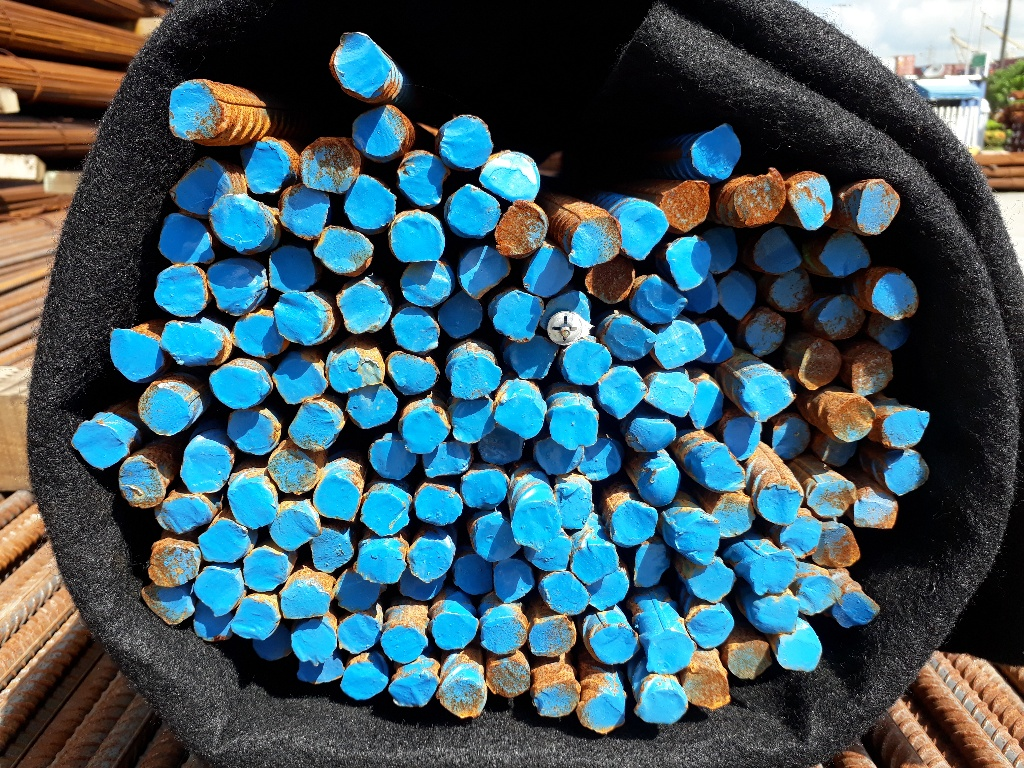dipstick: (332, 31, 392, 98), (210, 193, 274, 252), (170, 157, 234, 216), (300, 138, 361, 195), (208, 259, 271, 314), (482, 149, 542, 204), (160, 321, 230, 368), (237, 135, 290, 197), (689, 122, 745, 180), (326, 337, 387, 390), (168, 80, 221, 140), (133, 383, 193, 436), (568, 212, 623, 269), (336, 280, 391, 337), (108, 326, 162, 384), (447, 181, 502, 237), (615, 206, 669, 263), (152, 263, 210, 316), (351, 105, 410, 157), (277, 183, 329, 242), (182, 432, 233, 492), (268, 439, 323, 494), (275, 290, 330, 345), (437, 113, 491, 169), (210, 362, 273, 410), (390, 211, 448, 263), (314, 225, 375, 274), (343, 175, 397, 230), (738, 168, 788, 227), (664, 234, 714, 293), (288, 399, 344, 451), (271, 348, 327, 400), (159, 212, 215, 264), (69, 422, 129, 470), (522, 243, 577, 295), (603, 310, 660, 360), (739, 372, 795, 422), (229, 471, 276, 530), (498, 379, 544, 439), (495, 201, 547, 254), (657, 180, 710, 232), (632, 276, 688, 325), (117, 453, 166, 509), (229, 310, 287, 357), (312, 470, 364, 522), (400, 151, 446, 209), (823, 394, 875, 445), (354, 533, 406, 584), (460, 245, 511, 297), (191, 565, 241, 618), (267, 242, 317, 295), (872, 269, 921, 323), (856, 179, 901, 237), (154, 493, 217, 534), (225, 407, 281, 453), (753, 225, 804, 275), (634, 675, 685, 725), (494, 291, 545, 341), (271, 498, 319, 551), (819, 231, 871, 279), (346, 383, 398, 431), (140, 583, 198, 626), (148, 541, 202, 587), (386, 350, 440, 395), (197, 518, 253, 561), (512, 503, 564, 549), (391, 307, 443, 353), (654, 320, 707, 365), (818, 294, 867, 342), (698, 443, 747, 491), (584, 260, 640, 302), (748, 550, 798, 597), (438, 672, 488, 719), (849, 345, 895, 396), (472, 511, 518, 562), (405, 403, 451, 454), (449, 354, 502, 398), (598, 368, 644, 418), (539, 569, 589, 615), (399, 261, 452, 304), (683, 664, 731, 711), (551, 403, 599, 450), (545, 291, 592, 339), (797, 340, 843, 389), (229, 597, 279, 642), (607, 502, 658, 546), (793, 174, 833, 230), (756, 480, 803, 527), (646, 628, 695, 673), (367, 434, 416, 479), (564, 340, 613, 385), (675, 517, 719, 567), (289, 618, 339, 662), (534, 431, 584, 475), (646, 371, 692, 418), (817, 522, 862, 570), (335, 568, 384, 612), (717, 271, 760, 321), (588, 623, 640, 664), (510, 333, 556, 379), (528, 614, 576, 658), (687, 560, 735, 604), (806, 479, 857, 520), (525, 531, 576, 572), (883, 449, 928, 495), (710, 493, 756, 538), (310, 524, 356, 569), (336, 610, 383, 654), (638, 458, 680, 507), (768, 272, 818, 313), (458, 467, 509, 507), (855, 486, 900, 531), (571, 541, 618, 584), (416, 484, 464, 526), (424, 438, 474, 478), (577, 437, 622, 481), (439, 293, 483, 338), (342, 657, 389, 699), (775, 634, 824, 674), (582, 691, 627, 734), (244, 548, 289, 591), (381, 622, 427, 664), (474, 422, 522, 462), (780, 510, 819, 559), (408, 537, 452, 580), (279, 581, 330, 618), (727, 641, 773, 682), (553, 484, 594, 530), (430, 612, 479, 650), (689, 607, 734, 648), (453, 552, 494, 597), (770, 415, 810, 461), (389, 669, 435, 709), (691, 375, 724, 430), (882, 410, 927, 450), (487, 656, 533, 695), (482, 617, 529, 655), (494, 560, 535, 603), (698, 318, 737, 363), (191, 602, 233, 643), (753, 593, 797, 632), (533, 681, 583, 715), (798, 576, 841, 615), (636, 539, 670, 588), (836, 591, 879, 628), (704, 226, 737, 274), (723, 419, 761, 460), (630, 417, 676, 450), (589, 570, 629, 607), (297, 656, 344, 683), (398, 572, 437, 602), (254, 632, 291, 661)
